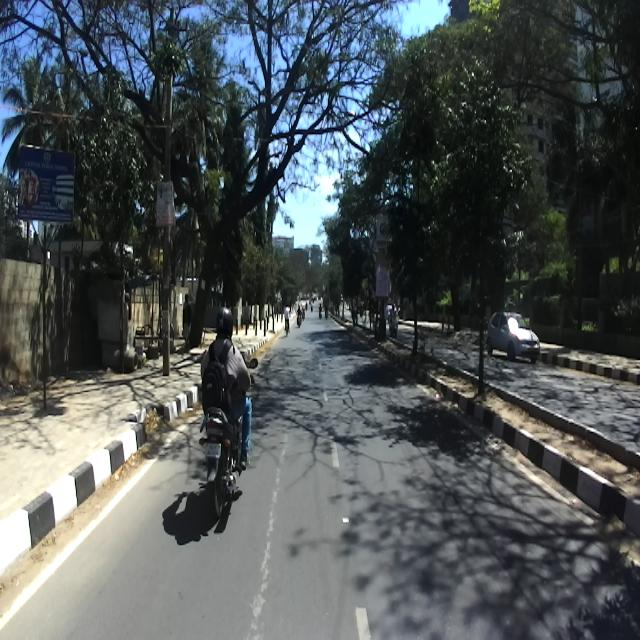barrier ahead at: (12, 137, 80, 414)
electric pole ahead at: (154, 64, 182, 380)
motorcycle ahead at: (196, 404, 258, 510)
